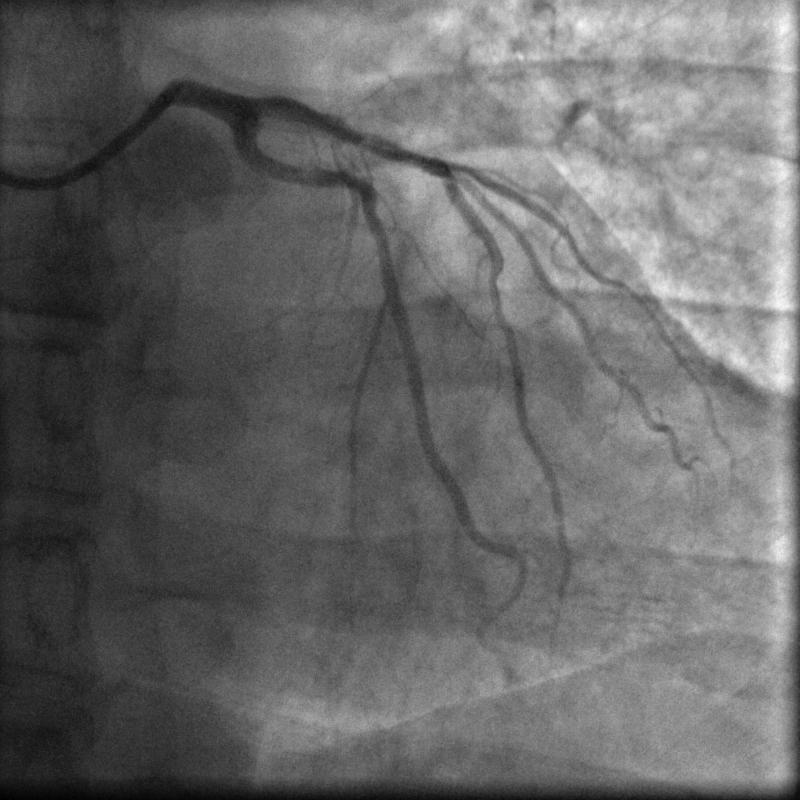Stenosis: (348, 130, 448, 177)
